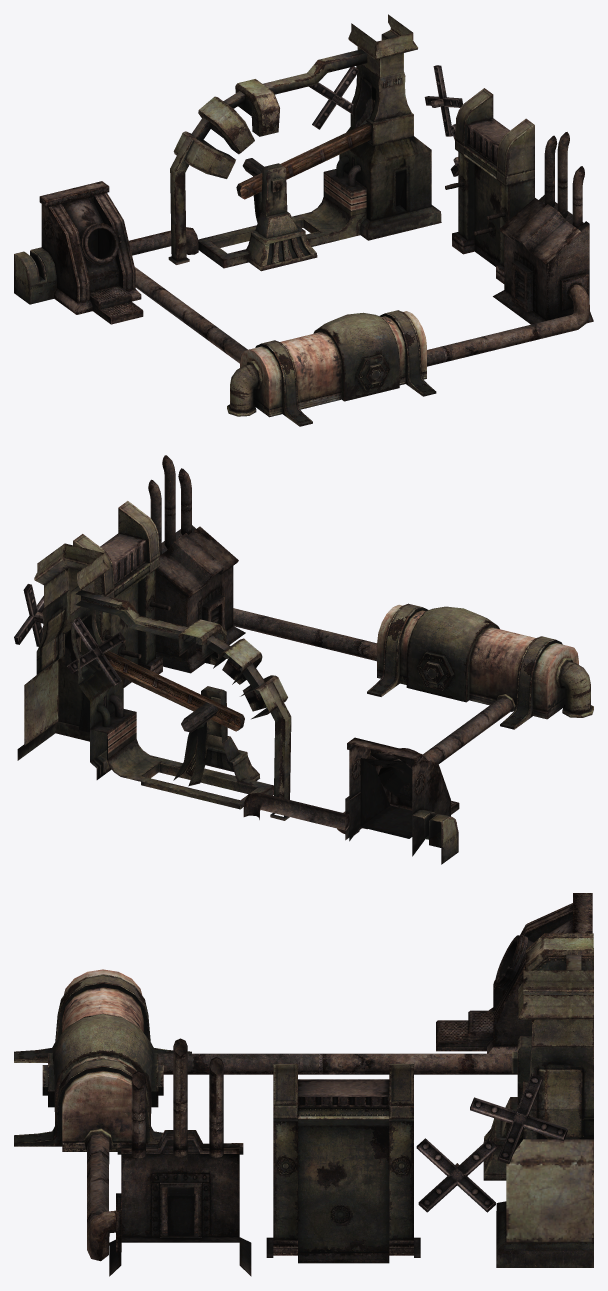
The model's file is elevator_machine.dae.
3 renders of one model, top to bottom at view 1: azimuth 30°, elevation 25°; view 2: azimuth 150°, elevation 25°; view 3: azimuth 270°, elevation 25°, orthographic. The views are drawn at different scales.
Visible parts, largest first — view 1: elevator_machine; view 2: elevator_machine; view 3: elevator_machine.
Part boxes in pixels (x1=…): elevator_machine: x1=14, y1=14, x2=593, y2=426; elevator_machine: x1=14, y1=455, x2=593, y2=864; elevator_machine: x1=14, y1=893, x2=593, y2=1276.
Size of the model in its own units: 9 by 4 by 8.02.
